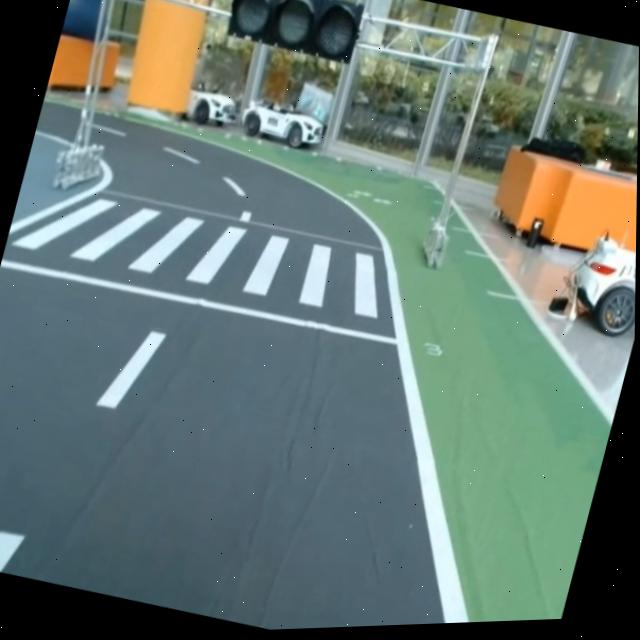traffic-light: (216, 0, 371, 73)
